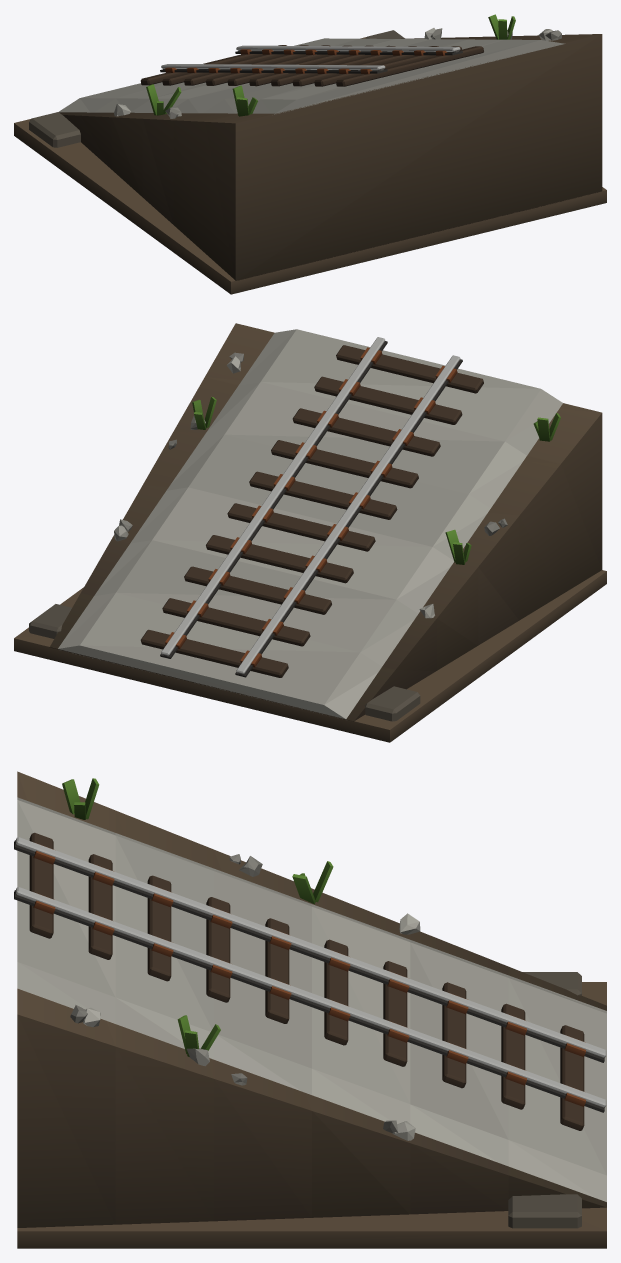
The model's file is track-gradient-ramp-tile.glb.
The picture shows the model from 3 angles, top to bottom: view 1: azimuth 30°, elevation 25°; view 2: azimuth 150°, elevation 25°; view 3: azimuth 270°, elevation 25°; orthographic projection. The views are drawn at different scales.
Parts seen in each view (by area): view 1: track_gradient_ramp_tile; view 2: track_gradient_ramp_tile; view 3: track_gradient_ramp_tile.
Boxes of the visible parts, x1,y1,x2,y2 form: track_gradient_ramp_tile: (14, 14, 606, 294); track_gradient_ramp_tile: (14, 323, 606, 742); track_gradient_ramp_tile: (14, 771, 606, 1248).
Size of the model in its own units: 4 by 1.95 by 4.02.
